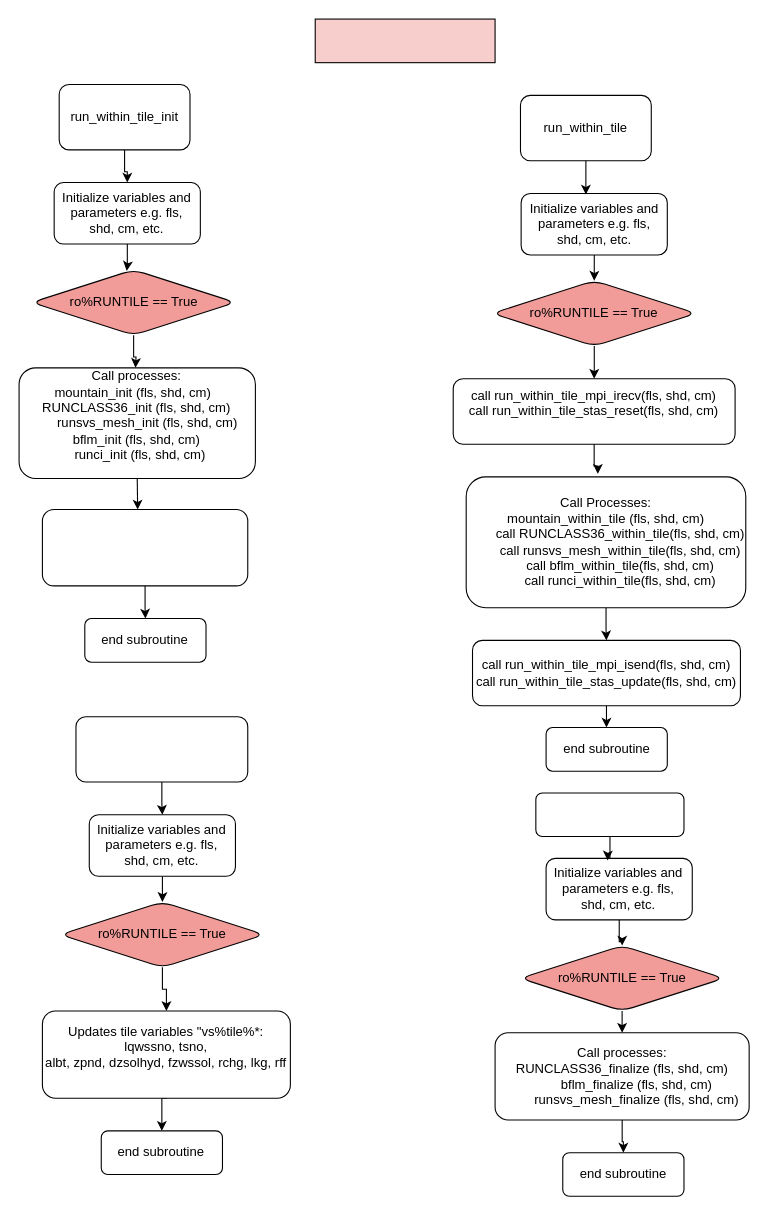
The diagram is 768 pixels wide and 1215 high, and some of its shapes have lost their labels. Here are the shapes that lost their labels. From the top down, the centre of each, then its label:
At (404,40): "sa_mesh_run_within_tile".
At (144,547): "run_within_tile_stas_update(fls, shd, cm)".
At (161,749): "run_within_tile_stas_update".
At (609,814): "run_within_tile_finalize".
